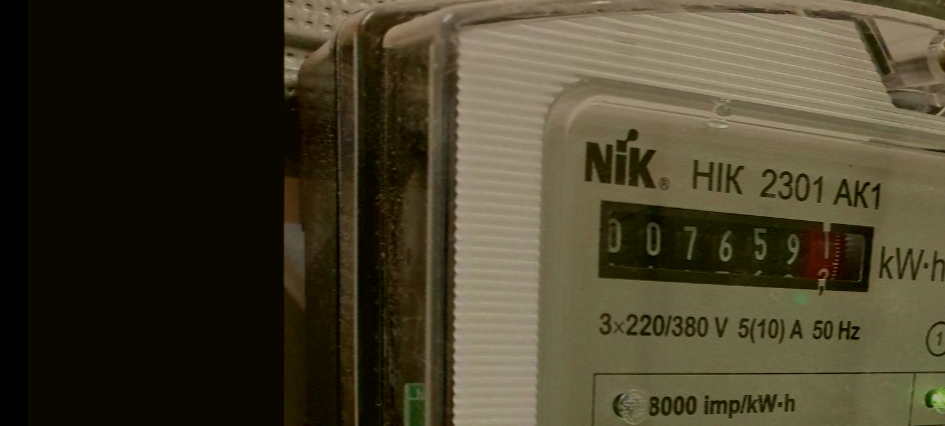0: (642, 214, 666, 255), (603, 211, 626, 252)
1: (819, 227, 836, 260)
5: (751, 222, 771, 260)
6: (716, 222, 737, 262)
7: (681, 219, 700, 259)
9: (785, 228, 802, 265)
screen: (590, 188, 884, 308)
